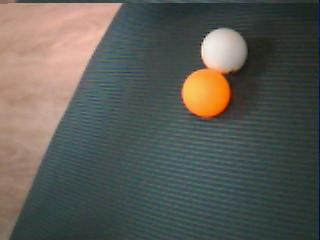oball: (183, 68, 231, 119)
